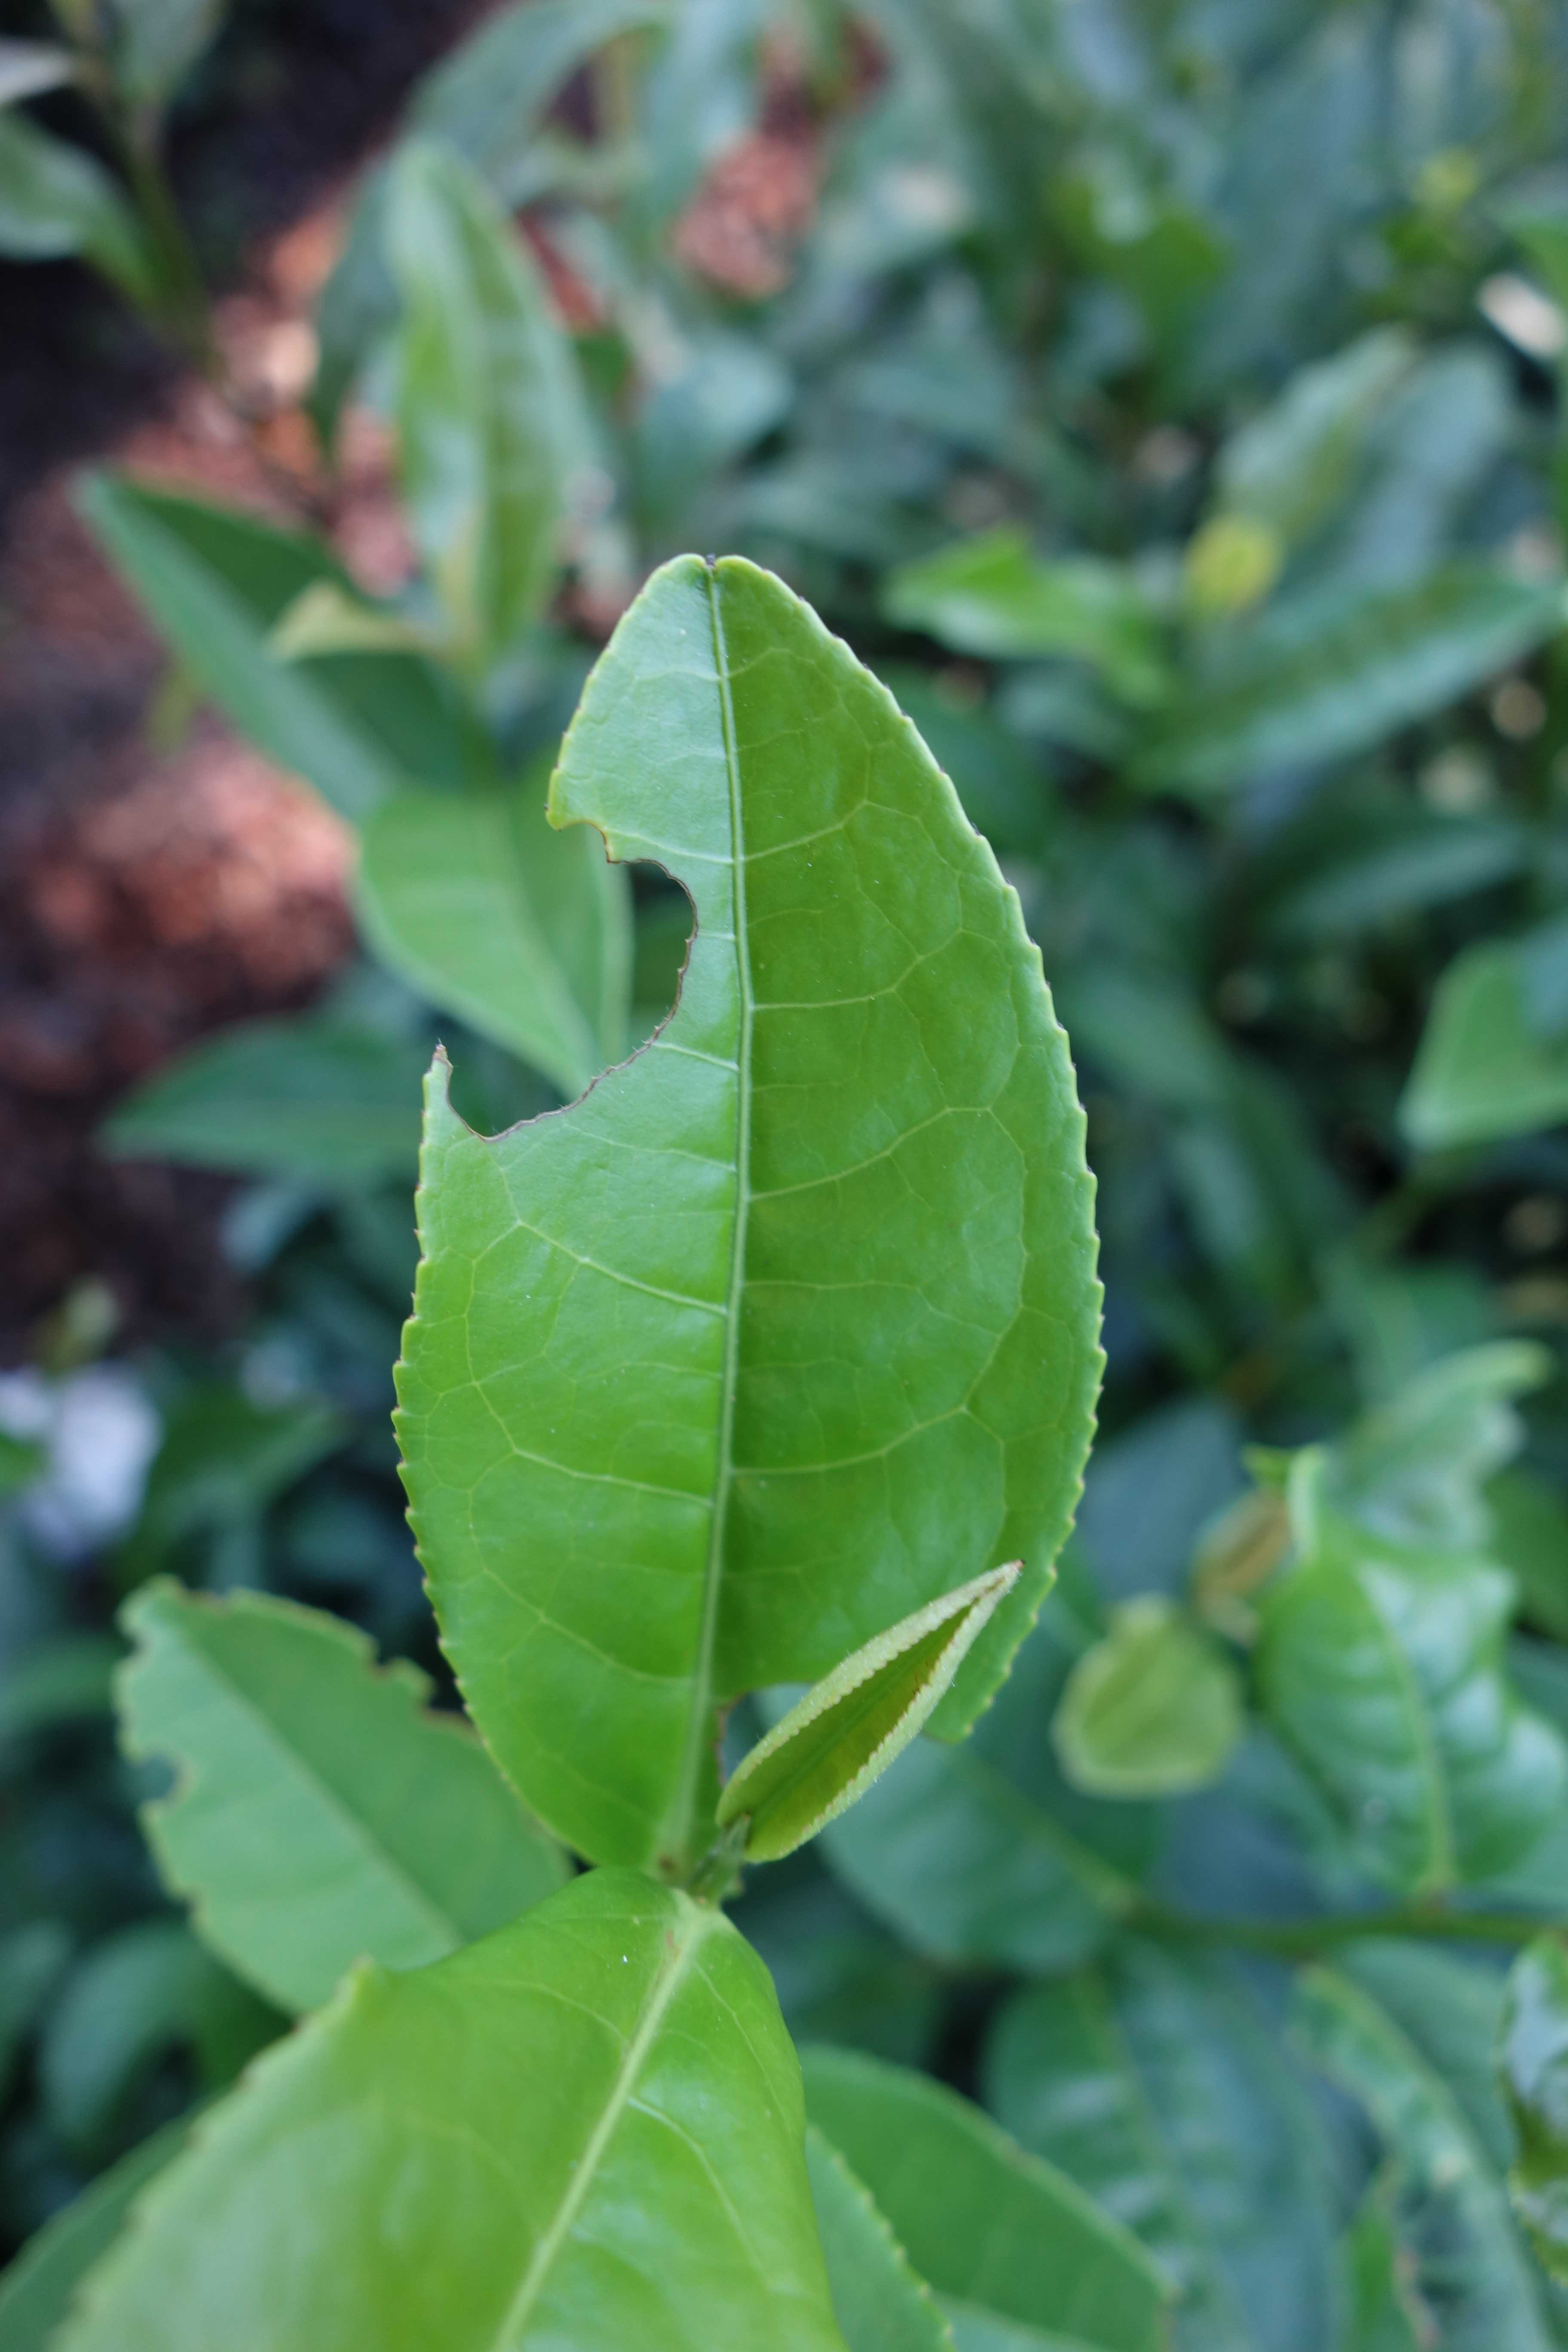chihuo_high: (390, 551, 1115, 1907), (101, 1570, 569, 2011)
healthy: (38, 1862, 847, 2345), (709, 1561, 1027, 1876)
